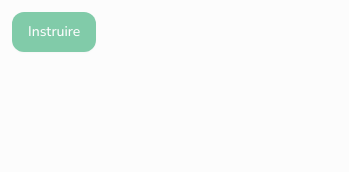
Test: AdvanceBlockedButton › la raison s'affiche au focus clavier
Focus the element showing "Instruire" at (54, 32), box [12,12,96,52]
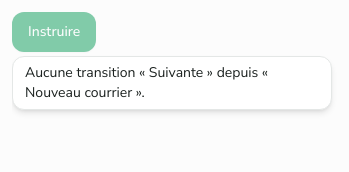
Expected: the tooltip "Aucune transition « Suivante » depuis « Nouveau courrier »." is shown, [12,56,332,110]
